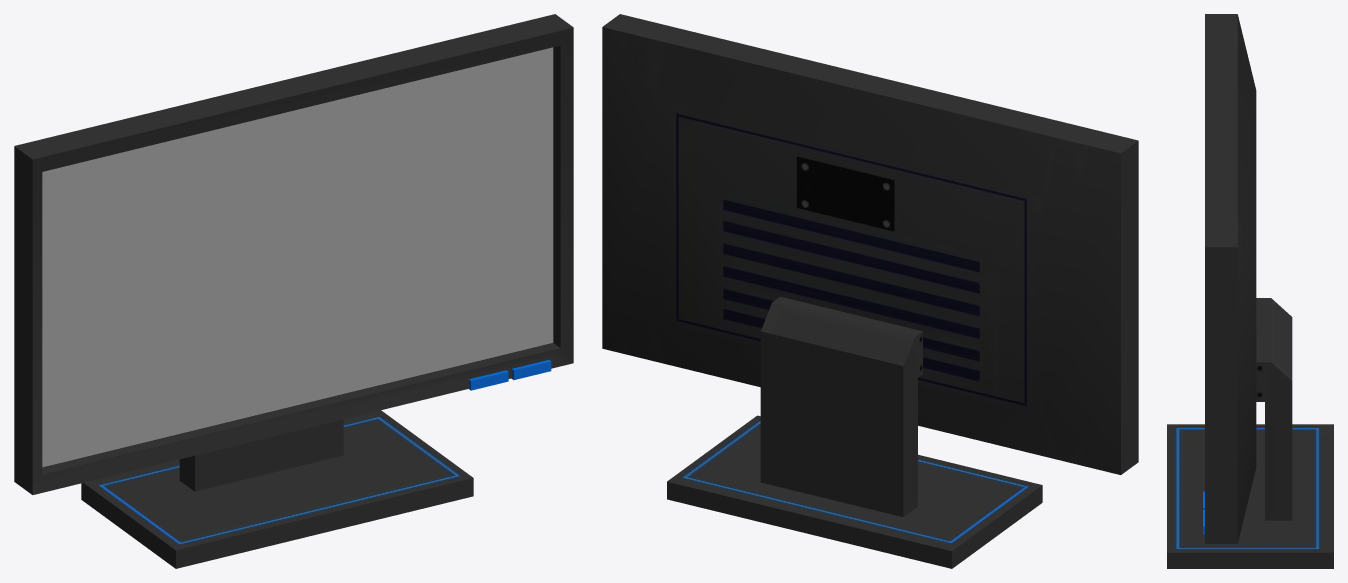
Rendered from Monitor-transformed.glb.
3 views of the same model, side by side, from view 1: azimuth 30°, elevation 25°; view 2: azimuth 150°, elevation 25°; view 3: azimuth 270°, elevation 25° (orthographic). The views are drawn at different scales.
Visible parts, largest first — view 1: Monitor; view 2: Monitor; view 3: Monitor.
Part boxes in pixels (x1,y1,x2,y2): Monitor: (14,14,573,568); Monitor: (602,14,1138,568); Monitor: (1167,14,1333,568).
Size of the model in its own units: 379 by 284 by 115.
1 material, 1 textured.
